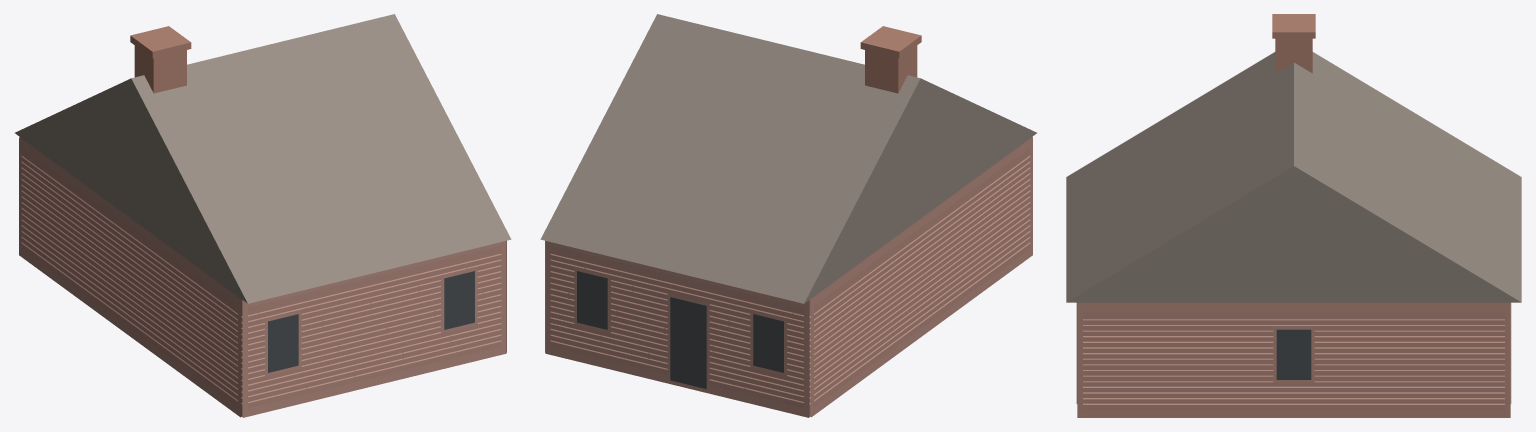
File: recon_1835_north_d5_057__inferred_1835.glb
3 renders of one model, left to right at view 1: azimuth 30°, elevation 25°; view 2: azimuth 150°, elevation 25°; view 3: azimuth 270°, elevation 25°, orthographic. The views are drawn at different scales.
Parts seen in each view (by area): view 1: recon_1835_north_d5_057__inferred_1835; view 2: recon_1835_north_d5_057__inferred_1835; view 3: recon_1835_north_d5_057__inferred_1835.
Boxes of the visible parts, bbox=[...] form: recon_1835_north_d5_057__inferred_1835: bbox=[15, 14, 511, 417]; recon_1835_north_d5_057__inferred_1835: bbox=[540, 14, 1036, 417]; recon_1835_north_d5_057__inferred_1835: bbox=[1066, 14, 1521, 417].
Size of the model in its own units: 6.77 by 7.03 by 10.26.
